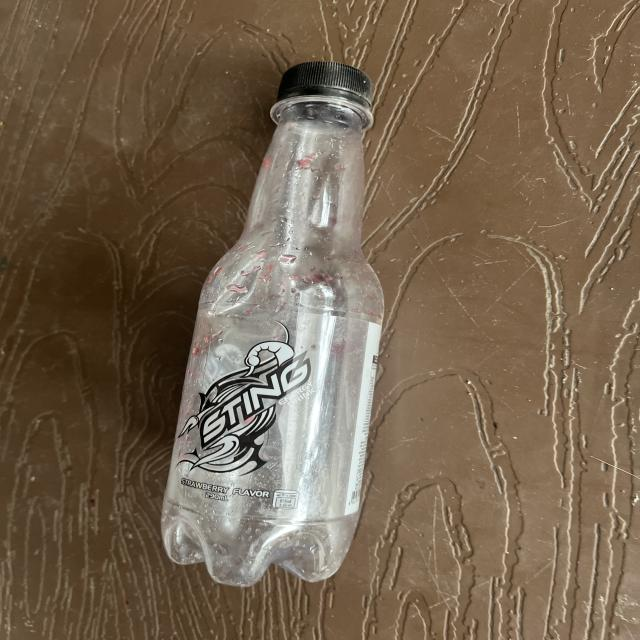REJECT: (154, 81, 450, 588)
